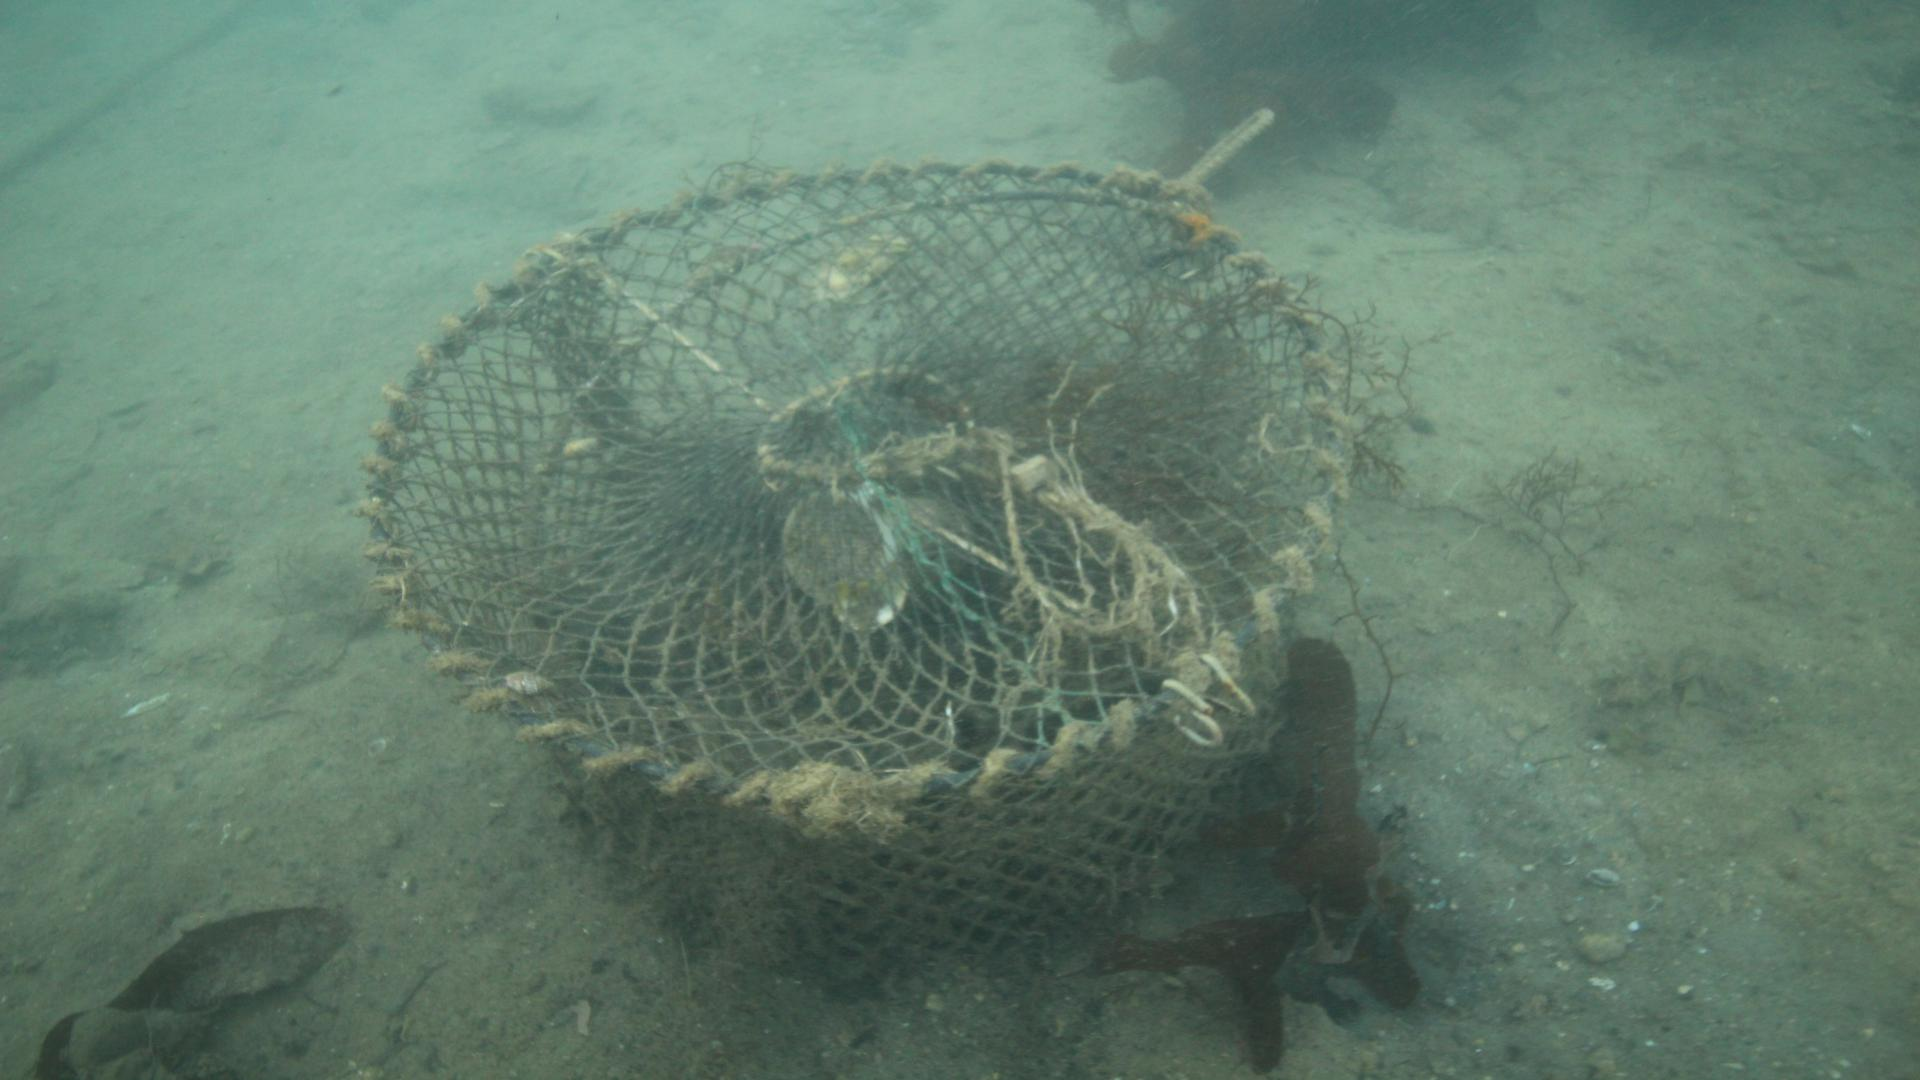circular fish trap: (352, 153, 1350, 993)
rope: (1176, 109, 1273, 189)
